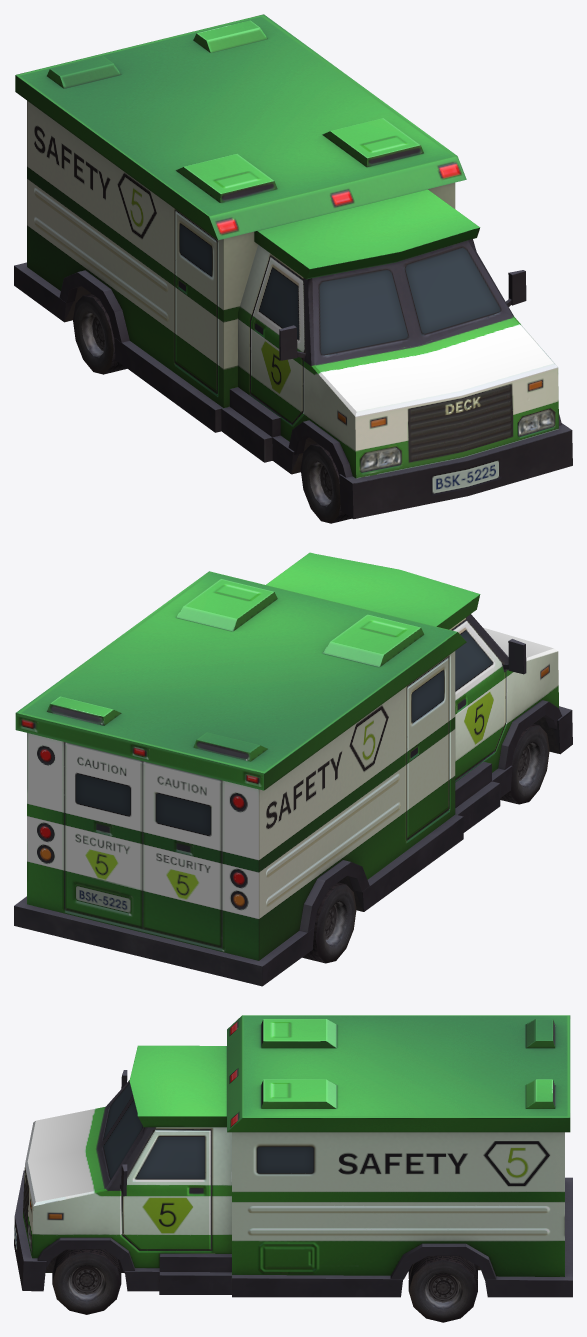
Rendered from bank_truck.fbx.
3 views of the same model, one above another, from view 1: azimuth 30°, elevation 25°; view 2: azimuth 150°, elevation 25°; view 3: azimuth 270°, elevation 25° (orthographic). The views are drawn at different scales.
Visible parts, largest first — view 1: body, wheel_rear_right, wheel_front_right; view 2: body, wheel_rear_right, wheel_front_right; view 3: body, wheel_rear_left, wheel_front_left.
Boxes of the visible parts, box(x1,y1,x2,y2) form: body: box(14, 14, 572, 519); wheel_rear_right: box(73, 293, 127, 374); wheel_front_right: box(300, 443, 351, 523); body: box(14, 552, 572, 986); wheel_rear_right: box(302, 882, 356, 963); wheel_front_right: box(500, 724, 549, 804); body: box(14, 1015, 572, 1297); wheel_rear_left: box(408, 1256, 477, 1322); wheel_front_left: box(52, 1249, 121, 1314).
Bounding box in the file's own units: 92.01 × 211 × 88.59.
1 material, 1 textured.
